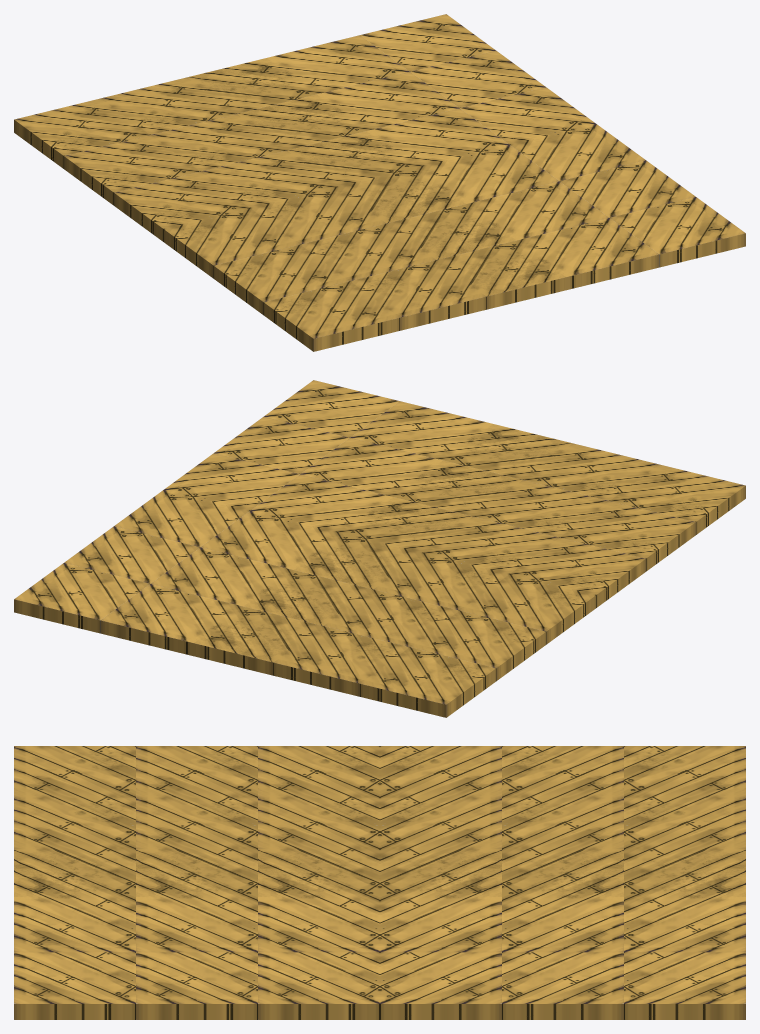
Rendered from PierKit_PierFloor.fbx.
The picture shows the model from 3 angles, top to bottom: view 1: azimuth 30°, elevation 25°; view 2: azimuth 150°, elevation 25°; view 3: azimuth 270°, elevation 25°; orthographic projection. The views are drawn at different scales.
Parts seen in each view (by area): view 1: PierFloor; view 2: PierFloor; view 3: PierFloor.
Part boxes in pixels (box(x1,y1,x2,y2)): PierFloor: box(14, 14, 745, 351); PierFloor: box(14, 380, 745, 717); PierFloor: box(14, 746, 745, 1019).
Size of the model in its own units: 500 by 14.5 by 600.
1 material, 1 textured.
